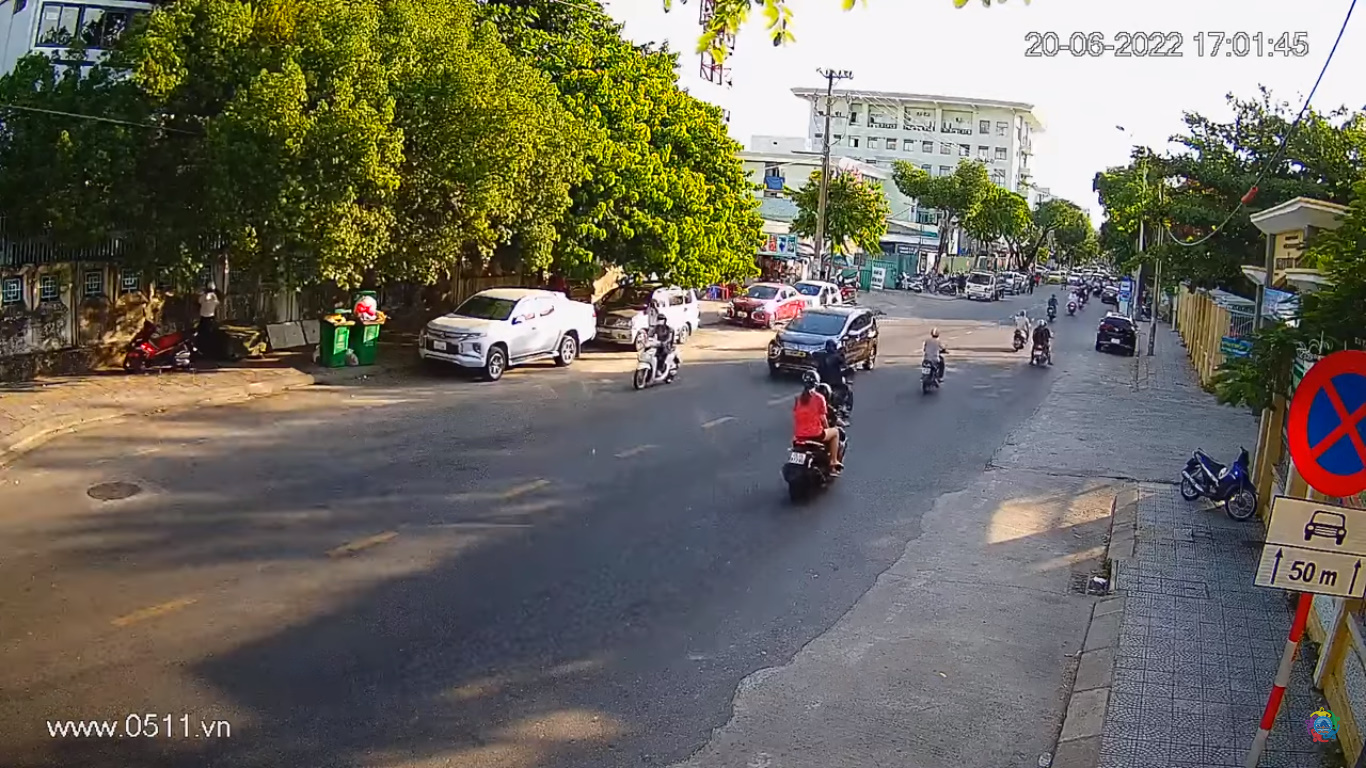car: (764, 307, 880, 385)
